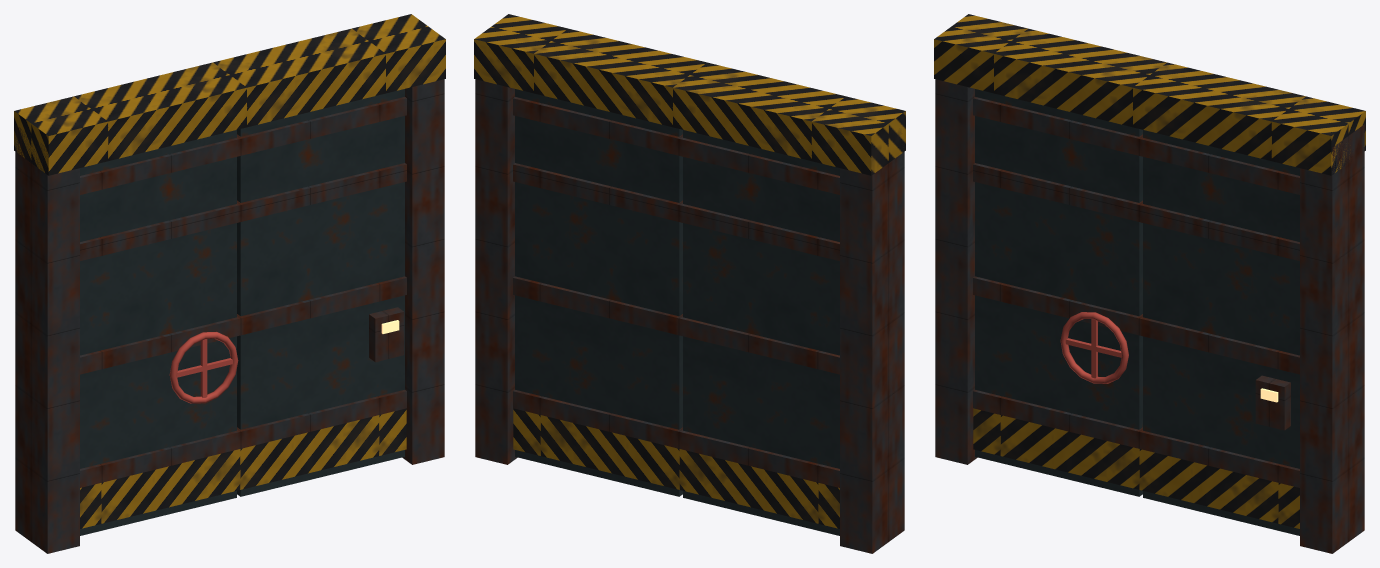
File: Prop_BlastDoor.fbx
3 views of the same model, side by side, from view 1: azimuth 30°, elevation 25°; view 2: azimuth 150°, elevation 25°; view 3: azimuth 330°, elevation 25° (orthographic).
Parts seen in each view (by area): view 1: Prop_BlastDoor; view 2: Prop_BlastDoor; view 3: Prop_BlastDoor.
Boxes of the visible parts, x1,y1,x2,y2 form: Prop_BlastDoor: (14,14,445,553); Prop_BlastDoor: (474,14,905,553); Prop_BlastDoor: (934,14,1365,553).
Size of the model in its own units: 4.4 by 4.43 by 0.735.
